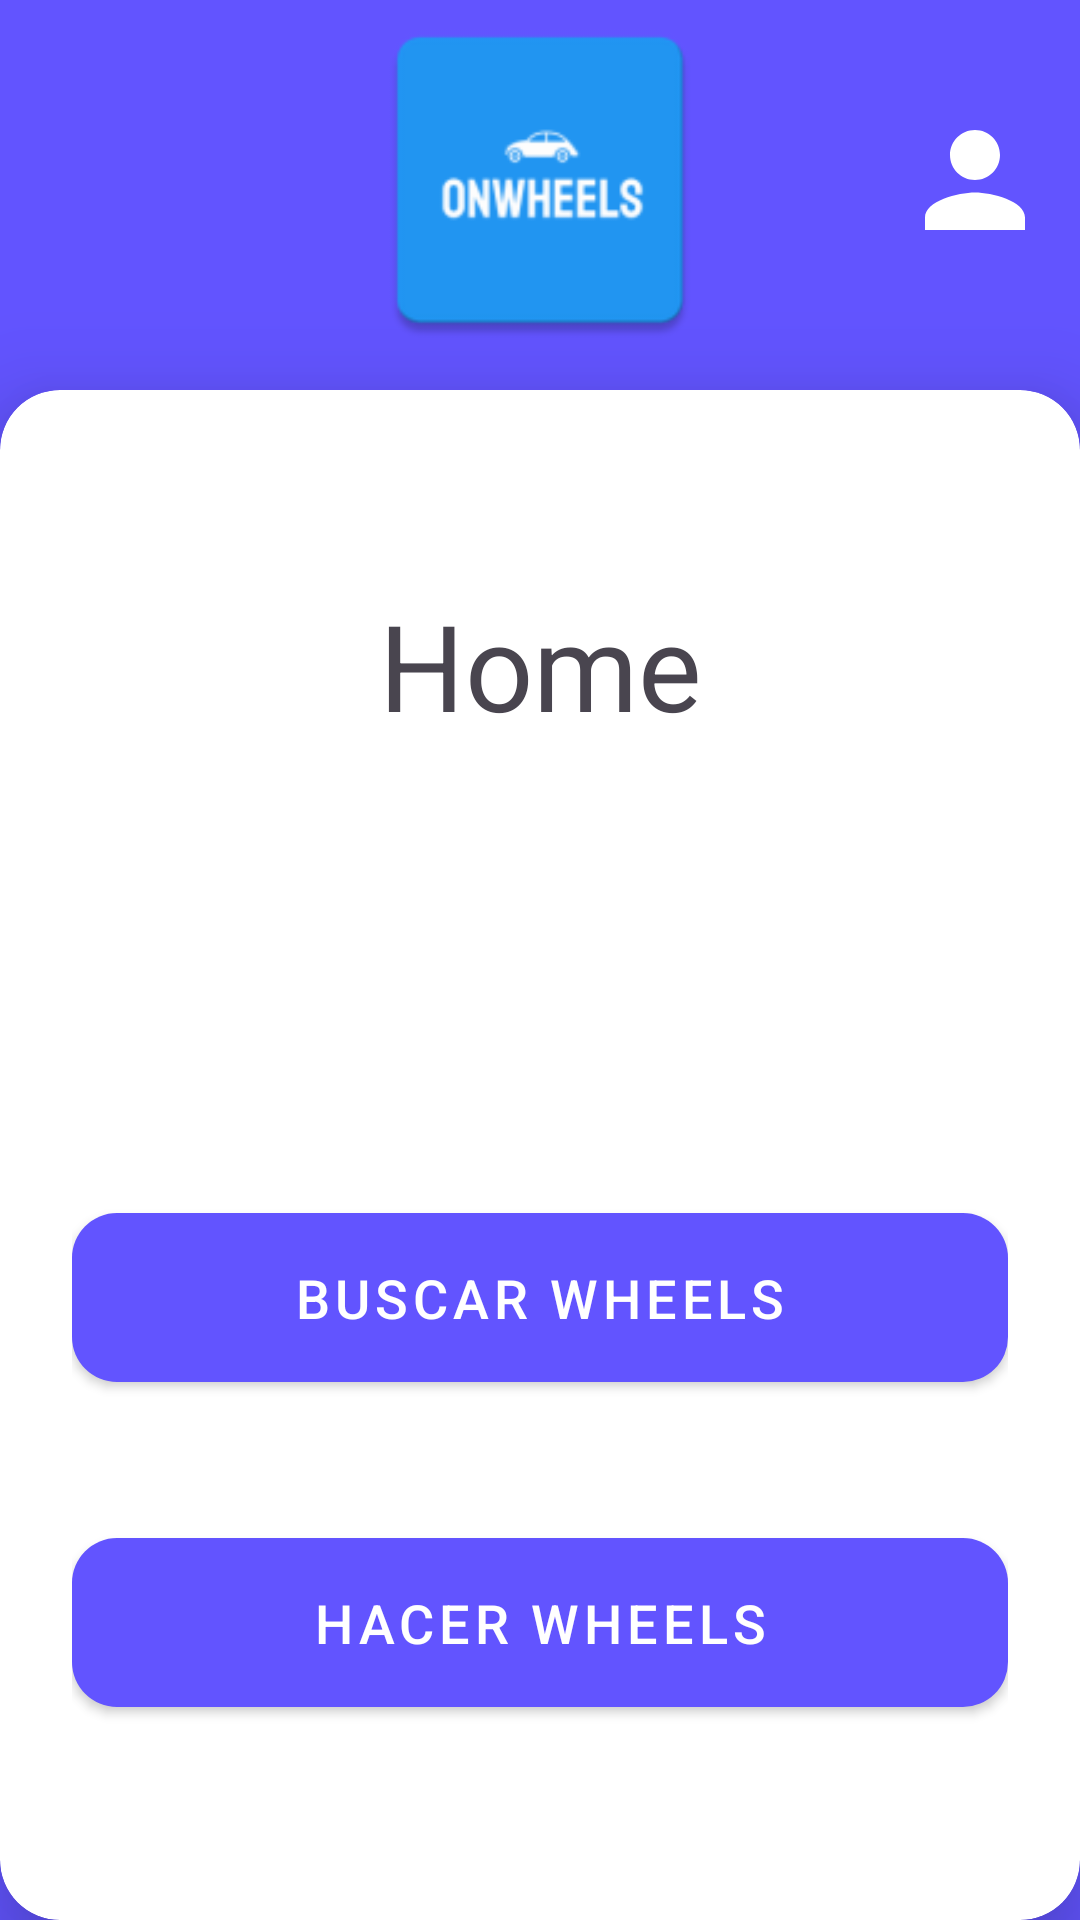

Named icons in this screenshot (1080 × 1920) and their centers, (x=x, y=y):
Profile Image: (x=975, y=180)
